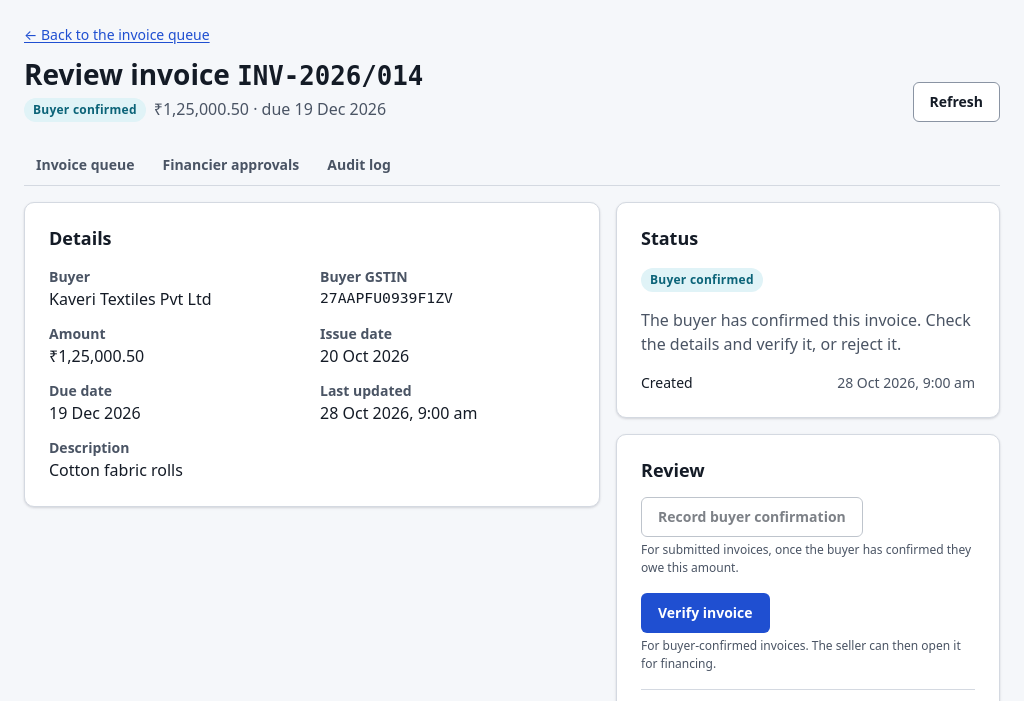
Test: InvoiceReviewComponent › explains a 409 invalid transition with the reported status, then reloads
Click the button "Verify invoice" at x=705, y=613, box [641, 593, 770, 633]
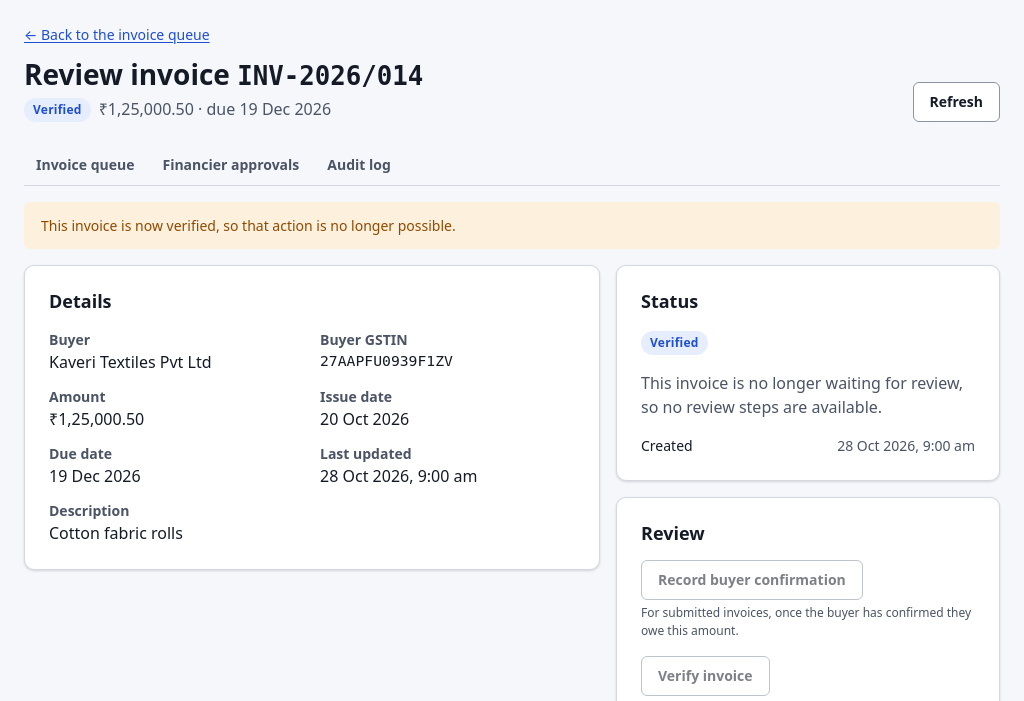
Now the message with class "notice" reads "This invoice is now verified, so that action is no longer possible.", box [41, 216, 456, 235]
Now the text with class "badge" next to "₹1,25,000.50 · due 19 Dec 2026" reads "Verified", box [33, 101, 82, 118]
